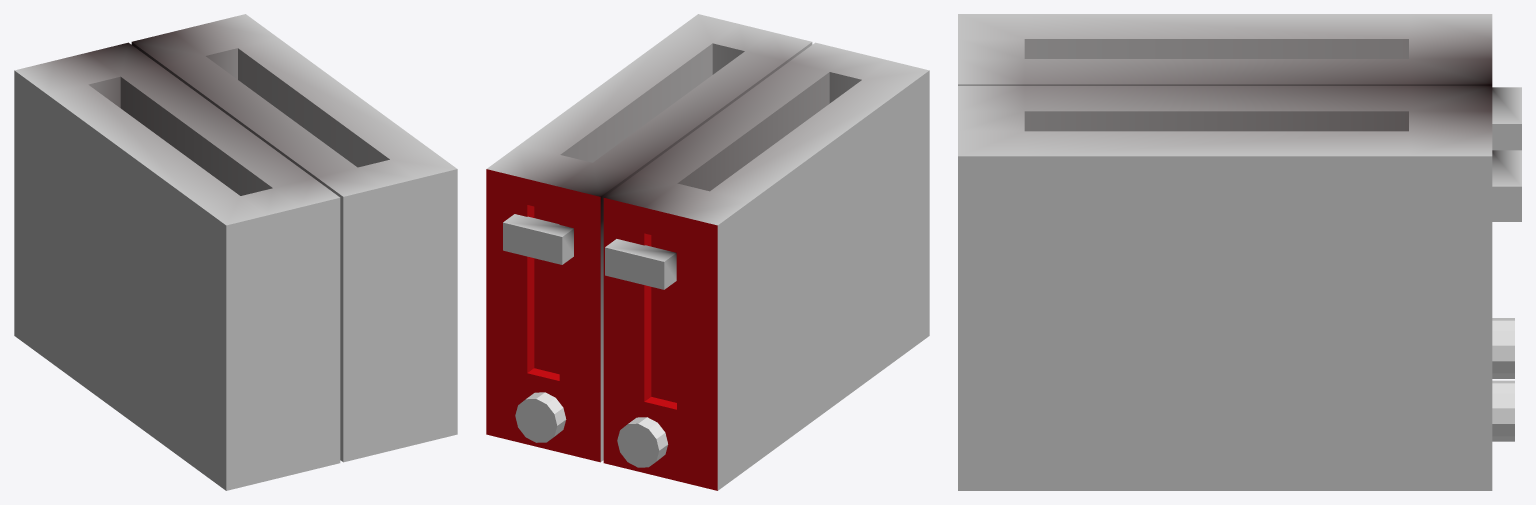
The model's file is toaster.fbx.
The picture shows the model from 3 angles, left to right: view 1: azimuth 30°, elevation 25°; view 2: azimuth 150°, elevation 25°; view 3: azimuth 270°, elevation 25°; orthographic projection. The views are drawn at different scales.
Parts seen in each view (by area): view 1: toaster; view 2: toaster, Cube.019, Cube.025, Cylinder.025, Cylinder.024; view 3: toaster, Cube.025, Cube.019, Cylinder.024, Cylinder.025.
Boxes of the visible parts, left/top/right/bottom form: toaster: left=14, top=14, right=457, bottom=490; toaster: left=486, top=14, right=929, bottom=490; Cube.019: left=605, top=239, right=676, bottom=289; Cube.025: left=503, top=214, right=573, bottom=264; Cylinder.025: left=617, top=417, right=668, bottom=467; Cylinder.024: left=515, top=392, right=566, bottom=442; toaster: left=958, top=14, right=1492, bottom=490; Cube.025: left=1492, top=150, right=1521, bottom=221; Cube.019: left=1492, top=87, right=1521, bottom=150; Cylinder.024: left=1492, top=380, right=1514, bottom=441; Cylinder.025: left=1492, top=318, right=1514, bottom=378.
Bounding box in the file's own units: 30.57 × 51.2 × 33.53.
